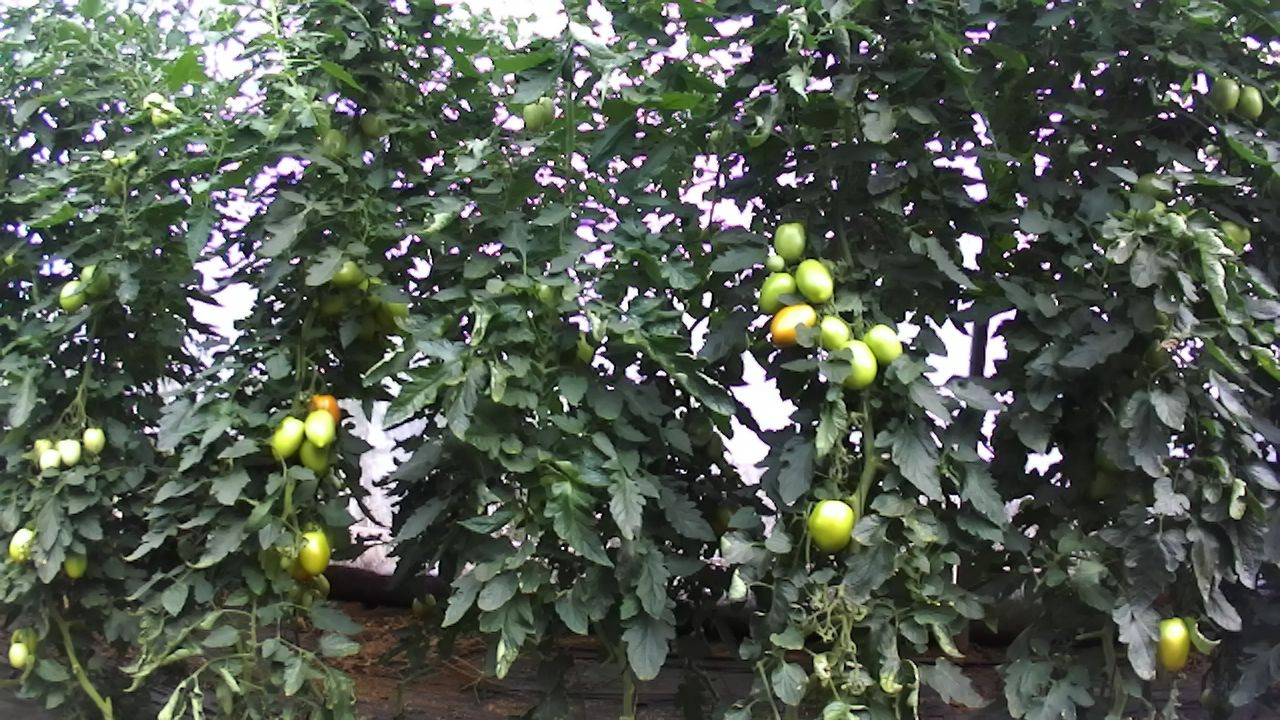tomato: (803, 496, 856, 557), (1153, 614, 1193, 679), (834, 335, 880, 391), (767, 300, 818, 348), (859, 320, 906, 368), (792, 256, 835, 305), (757, 269, 798, 315), (296, 528, 332, 578), (270, 415, 306, 464), (301, 407, 338, 449), (5, 522, 40, 565), (772, 220, 807, 263), (816, 312, 851, 352), (59, 542, 91, 582), (1210, 73, 1242, 111), (1234, 83, 1264, 120), (57, 279, 88, 313), (57, 437, 82, 468), (5, 640, 31, 669), (81, 425, 106, 455), (522, 102, 545, 133), (36, 446, 62, 472), (763, 253, 786, 272)
